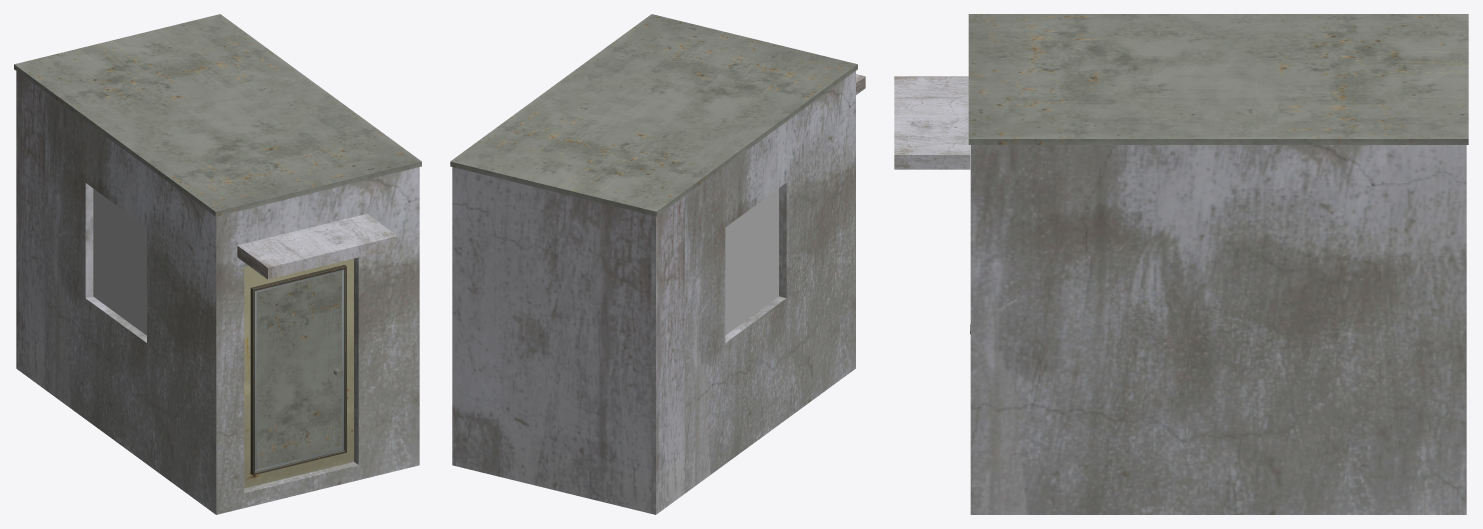
The model's file is rooftopexit_02.fbx.
3 renders of one model, left to right at view 1: azimuth 30°, elevation 25°; view 2: azimuth 150°, elevation 25°; view 3: azimuth 270°, elevation 25°, orthographic. The views are drawn at different scales.
Visible parts, largest first — view 1: rooftopexit_02; view 2: rooftopexit_02; view 3: rooftopexit_02.
Part boxes in pixels (x1,y1,x2,y2): rooftopexit_02: (14,14,421,514); rooftopexit_02: (450,14,865,514); rooftopexit_02: (894,14,1468,514).
Size of the model in its own units: 264 by 372 by 513.
